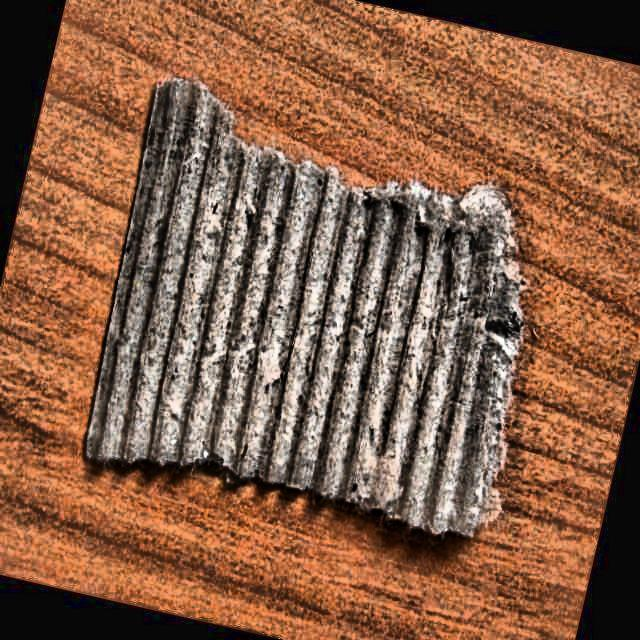cardboard: (85, 79, 527, 539)
